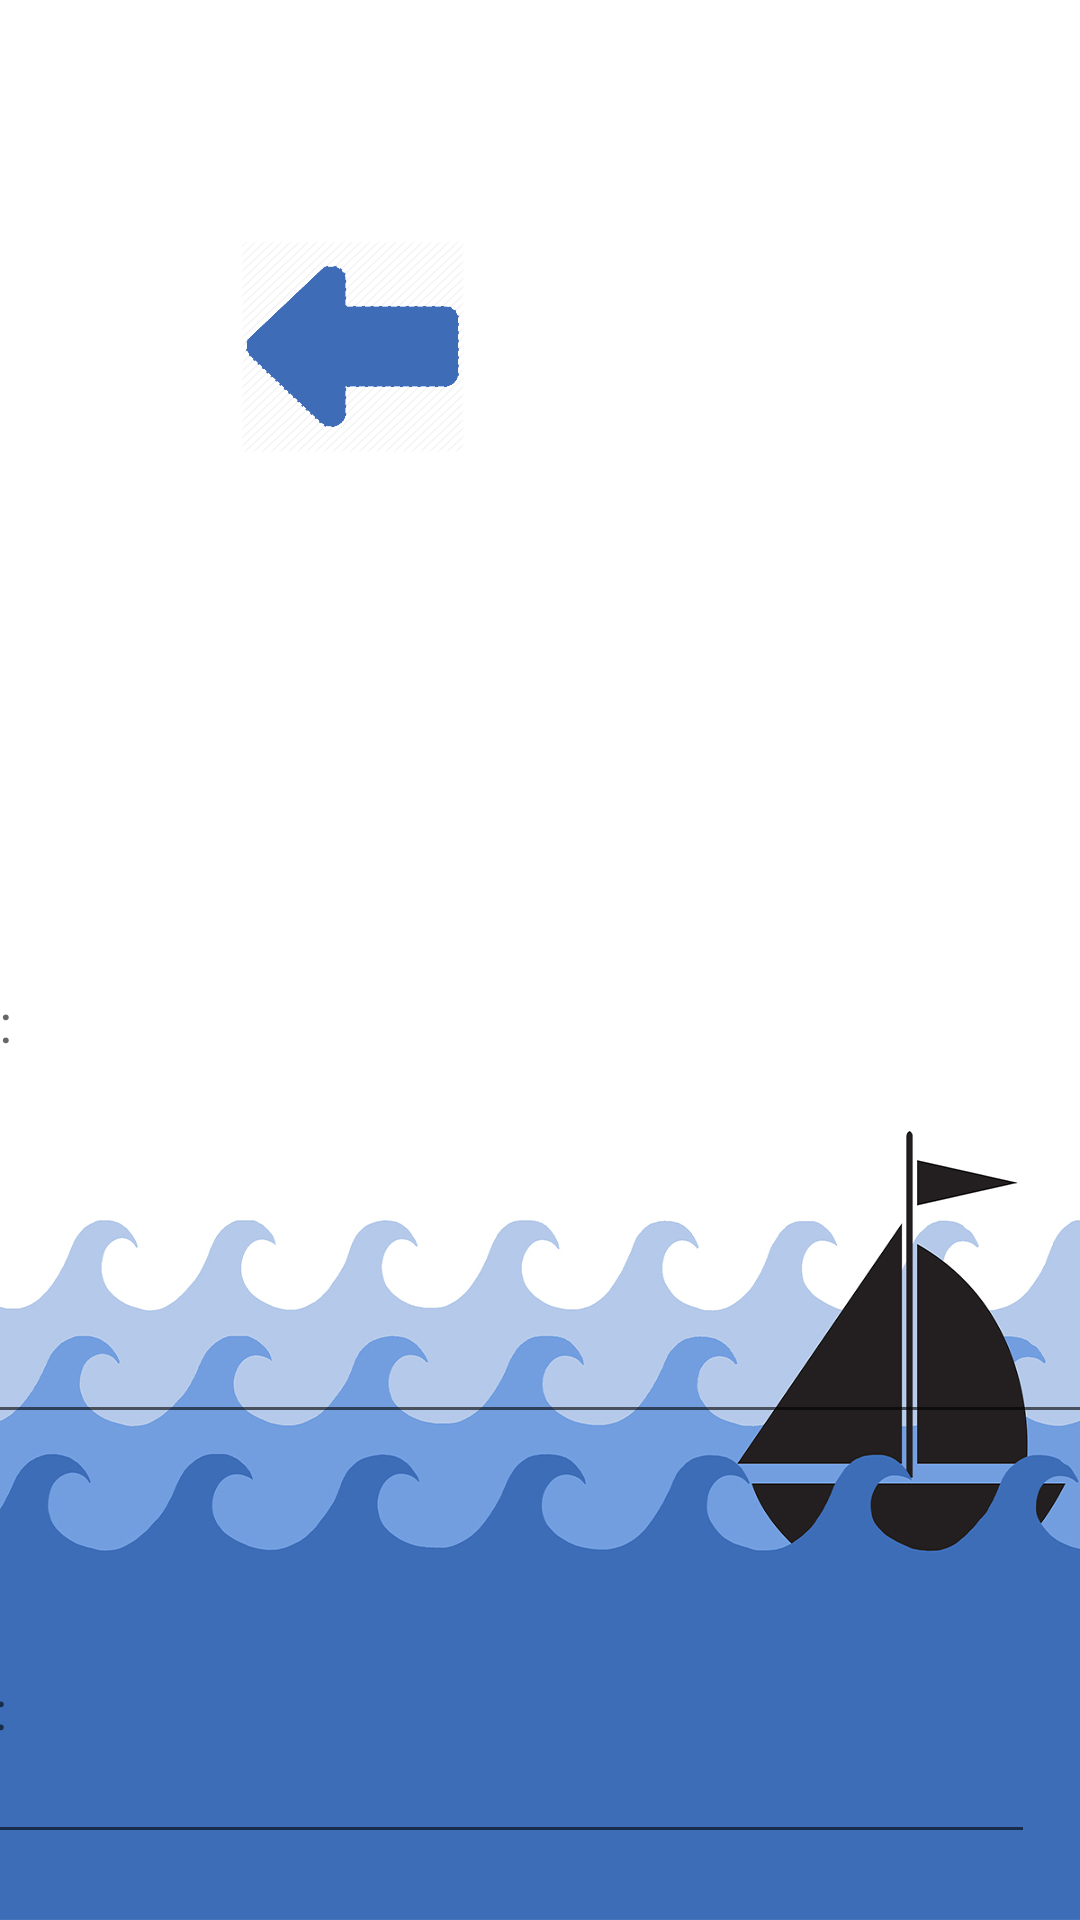

Named icons in this screenshot (1080*1920) and their bounding boxes, (x1, y1, x2, y2):
left arrow: (246, 266, 459, 427)
